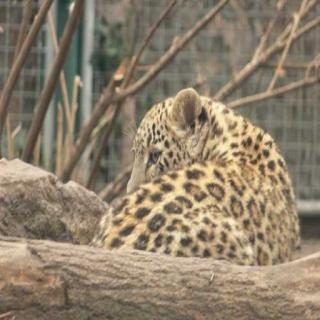Leopard: (109, 68, 312, 298)
